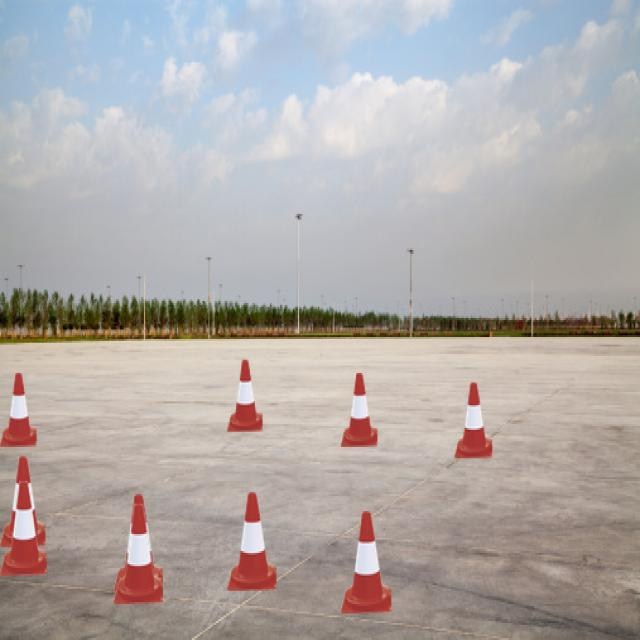orange_cone: (341, 512, 391, 614), (114, 504, 162, 604), (114, 494, 162, 593), (228, 492, 276, 591), (0, 481, 47, 576), (0, 456, 45, 547), (454, 383, 492, 458), (0, 373, 37, 447), (341, 373, 377, 447), (227, 359, 263, 432)
